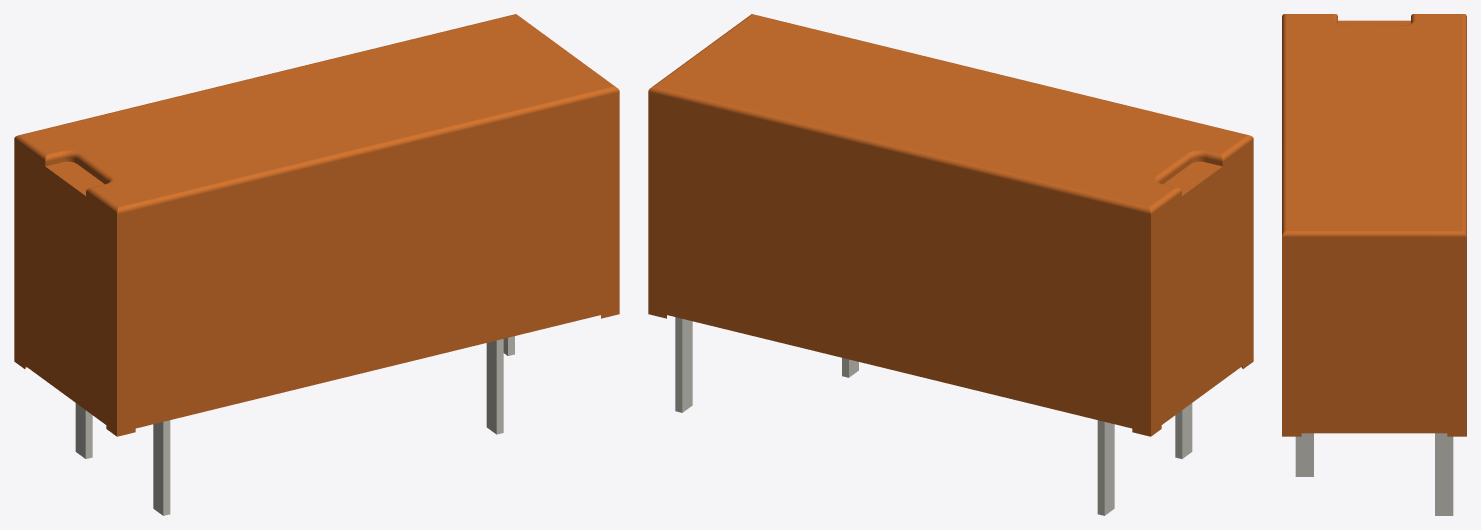
File: kc-relay_1-form-b_schrack-ryii_rm5mm.glb
3 renders of one model, left to right at view 1: azimuth 30°, elevation 25°; view 2: azimuth 150°, elevation 25°; view 3: azimuth 270°, elevation 25°, orthographic. The views are drawn at different scales.
Visible parts, largest first — view 1: 0.5833333333333334_0.16666666666666666_0_0, 0.6666666666666666_0.6666666666666666_0.5833333333333334_0.8; view 2: 0.5833333333333334_0.16666666666666666_0_0, 0.6666666666666666_0.6666666666666666_0.5833333333333334_0.8; view 3: 0.5833333333333334_0.16666666666666666_0_0, 0.6666666666666666_0.6666666666666666_0.5833333333333334_0.8.
Part boxes in pixels (x1=…): 0.5833333333333334_0.16666666666666666_0_0: x1=14, y1=14, x2=619, y2=436; 0.6666666666666666_0.6666666666666666_0.5833333333333334_0.8: x1=75, y1=336, x2=514, y2=515; 0.5833333333333334_0.16666666666666666_0_0: x1=648, y1=14, x2=1253, y2=436; 0.6666666666666666_0.6666666666666666_0.5833333333333334_0.8: x1=675, y1=317, x2=1192, y2=515; 0.5833333333333334_0.16666666666666666_0_0: x1=1282, y1=14, x2=1466, y2=436; 0.6666666666666666_0.6666666666666666_0.5833333333333334_0.8: x1=1295, y1=433, x2=1453, y2=515.
Bounding box in the file's own units: 2.85 × 1.76 × 1.01.
